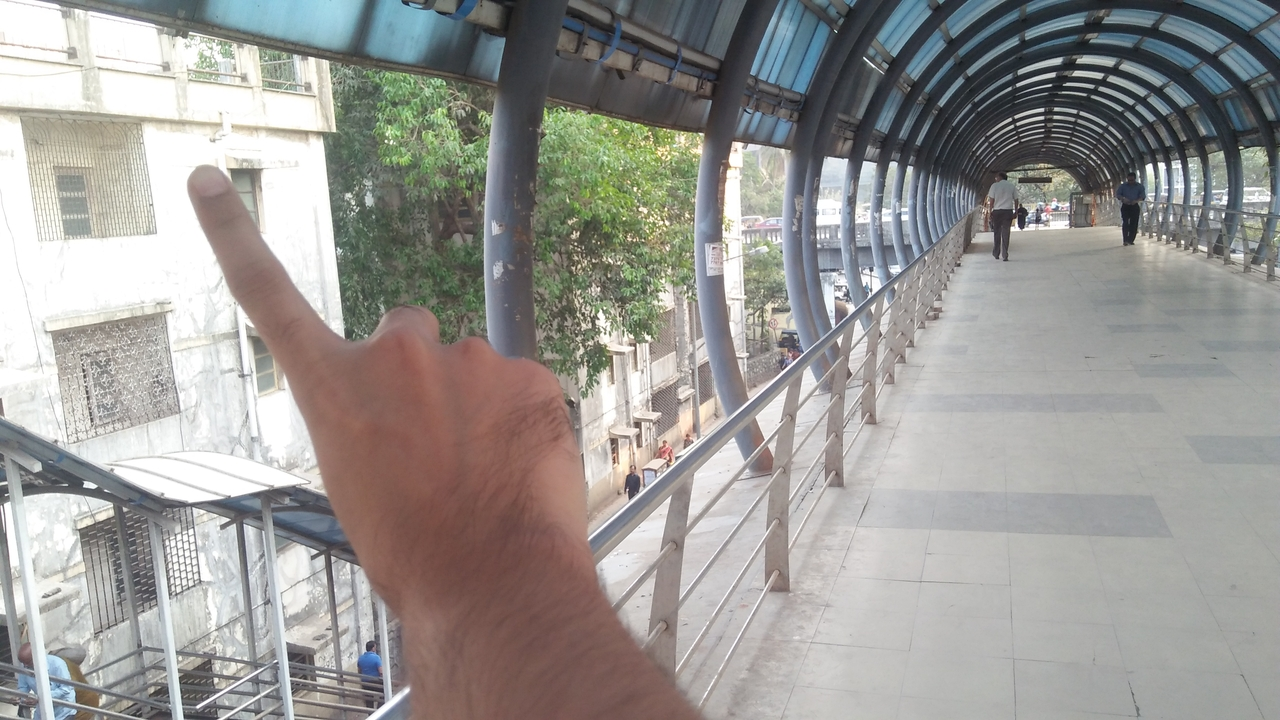fingertip: (180, 156, 240, 212)
